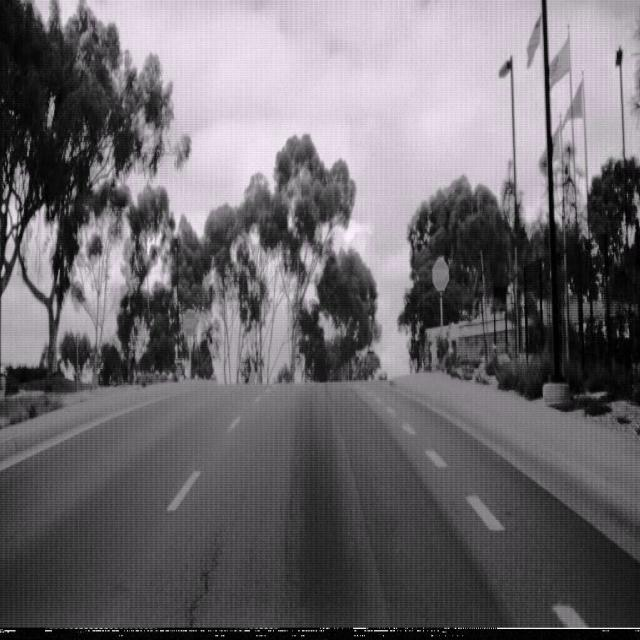stop_sign: (432, 256, 449, 292), (183, 308, 197, 336)
